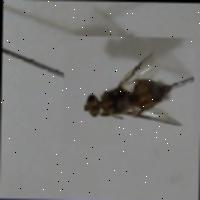Oriental-fruit-fly: (61, 34, 193, 144)
